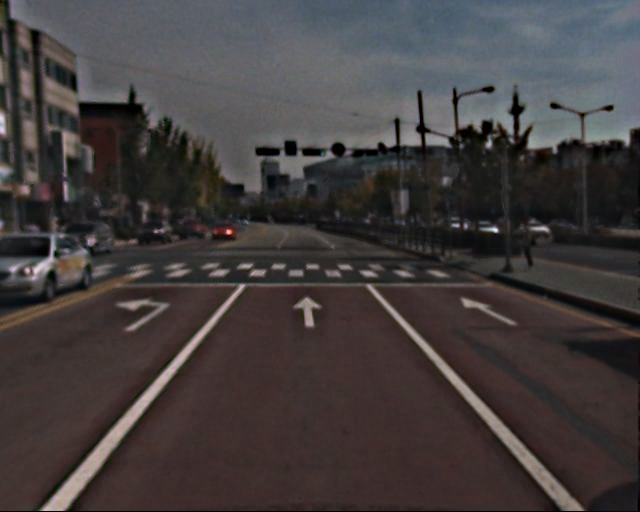person: (513, 217, 538, 277)
